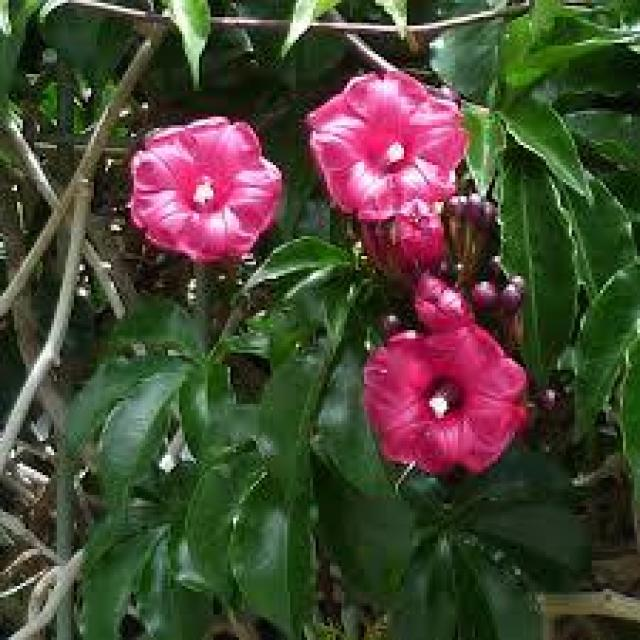organic waste: (302, 65, 466, 225), (364, 321, 532, 475), (129, 110, 283, 260)
